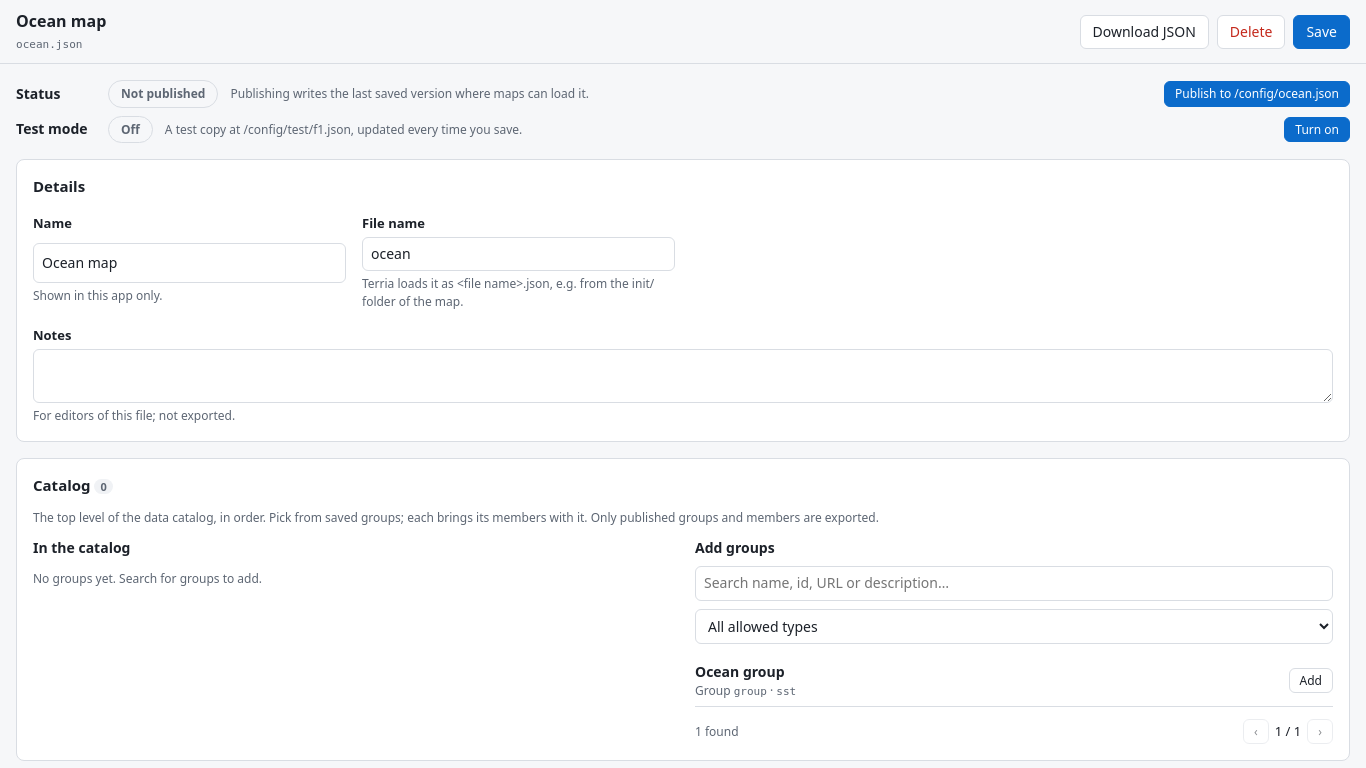
Test: InitFileEditor: existing file › adds catalog groups from the search
Expected: the heading "Ocean map" is shown, [16,10,106,33]
Click the button "Add".
click(1311, 681)  # box [1289,668,1333,693]
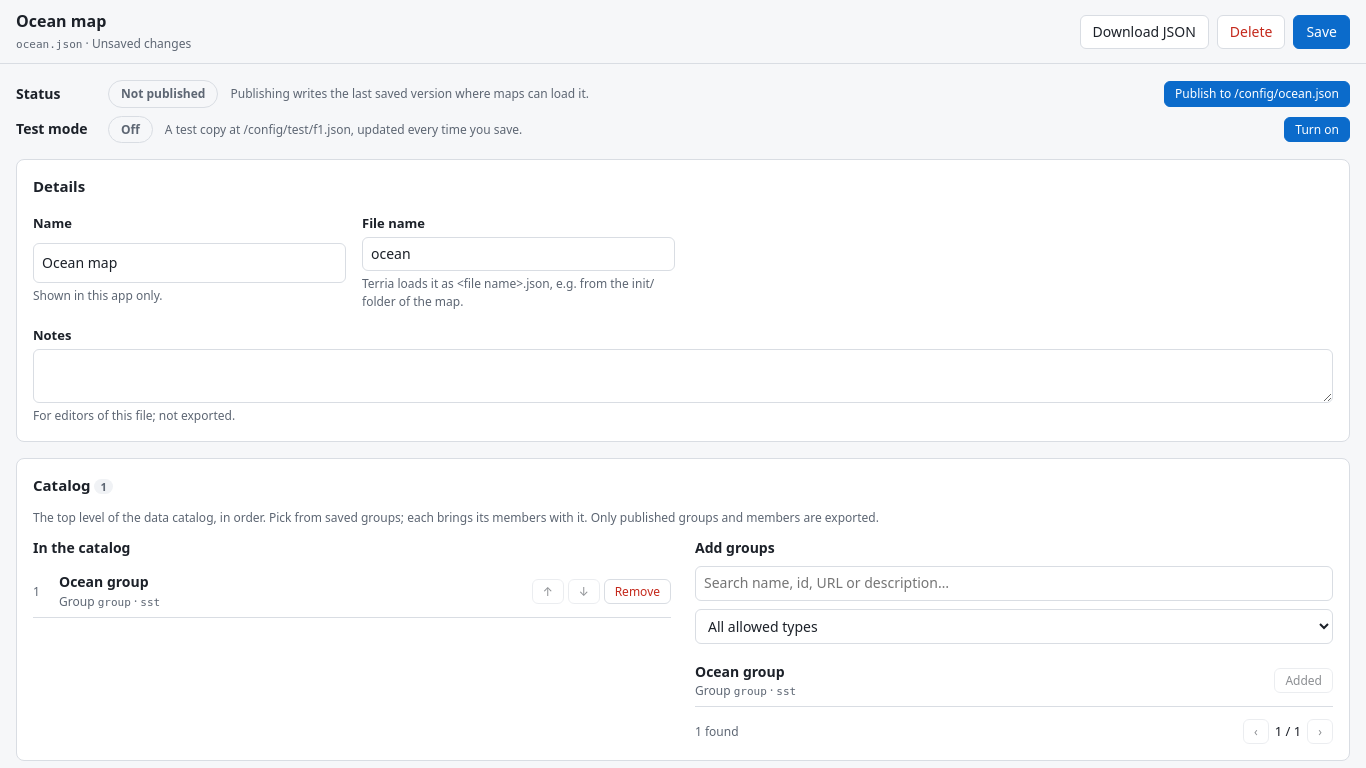
Now the button with aria-label "Remove Ocean group" is shown, box [604,579,671,604]
Now the text "ocean.json · Unsaved changes" is shown, box [16,35,191,52]
